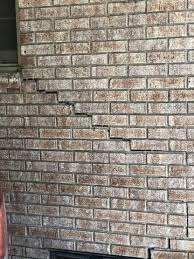stairstep_crack: (21, 76, 192, 166), (146, 202, 189, 258)
